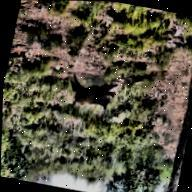boar: (65, 66, 128, 111)
